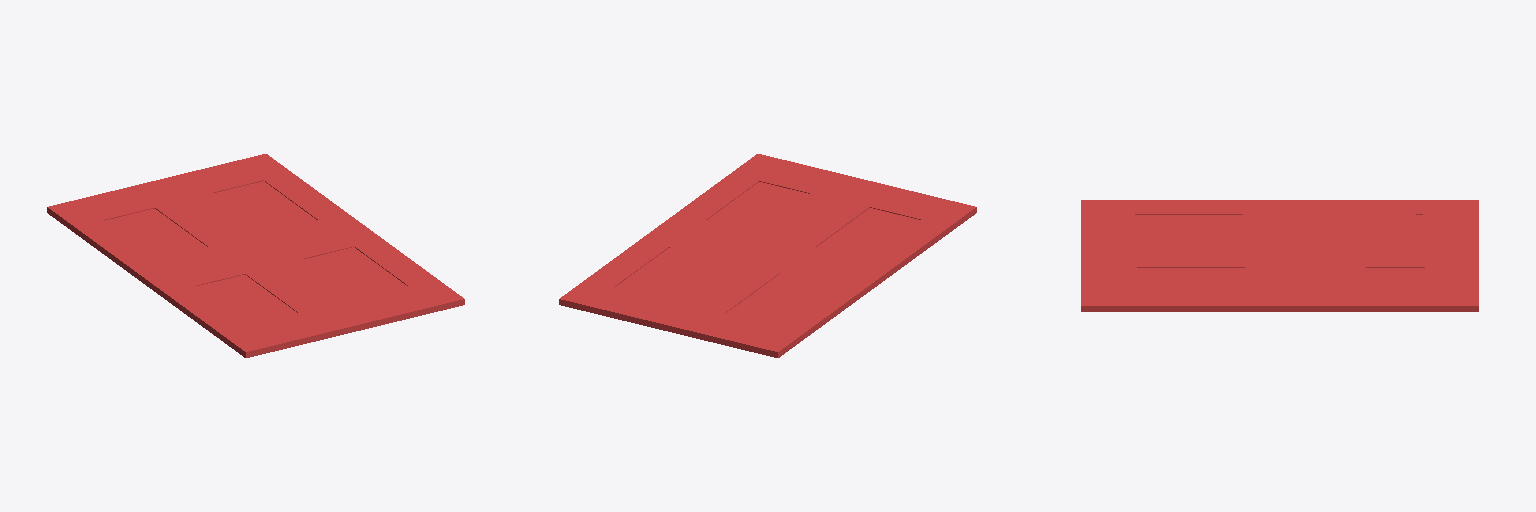
Rendered from Door.obj.
3 views of the same model, side by side, from view 1: azimuth 30°, elevation 25°; view 2: azimuth 150°, elevation 25°; view 3: azimuth 270°, elevation 25° (orthographic).
Visible parts, largest first — view 1: Box002; view 2: Box002; view 3: Box002.
Part boxes in pixels (x1,y1,x2,y2): Box002: (47, 154, 464, 357); Box002: (559, 154, 976, 357); Box002: (1081, 200, 1478, 311).
Bounding box in the file's own units: 140 × 3.75 × 220.